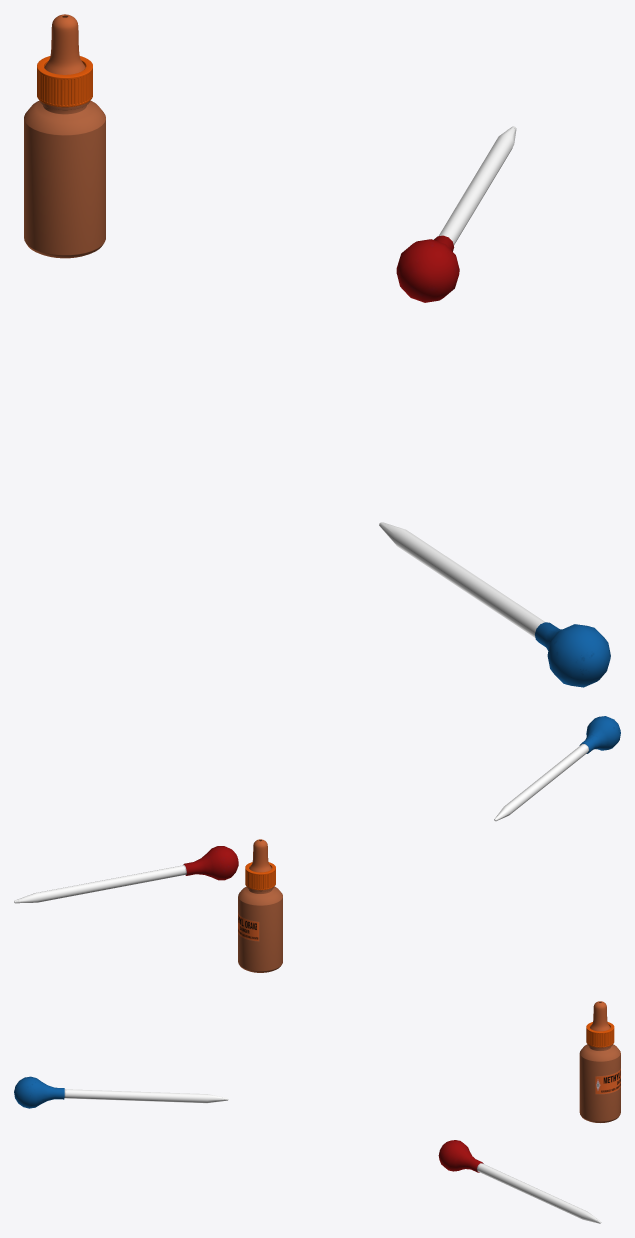
Rendered from pipette&indicator.fbx.
The picture shows the model from 3 angles, top to bottom: view 1: azimuth 30°, elevation 25°; view 2: azimuth 150°, elevation 25°; view 3: azimuth 270°, elevation 25°; orthographic projection. The views are drawn at different scales.
Visible parts, largest first — view 1: Bottle, Blue_plastic, Blue_glass, Red_plastic-1, Red_piette_1, BottleHat, cap top; view 2: Bottle, Red_piette_1, Red_plastic-1, Blue_glass, Blue_plastic, BottleHat, cap top, indicatorLabel; view 3: Bottle, Blue_glass, Red_piette_1, Blue_plastic, Red_plastic-1, BottleHat, indicatorLabel, cap top.
Part boxes in pixels (left/top/right/bottom): Bottle: left=24, top=100, right=105, bottom=258; Blue_plastic: left=535, top=622, right=610, bottom=687; Blue_glass: left=379, top=522, right=545, bottom=637; Red_plastic-1: left=396, top=235, right=459, bottom=302; Red_piette_1: left=438, top=126, right=516, bottom=245; BottleHat: left=37, top=56, right=92, bottom=107; cap top: left=44, top=14, right=85, bottom=74; Bottle: left=238, top=886, right=282, bottom=972; Red_piette_1: left=14, top=865, right=186, bottom=903; Red_plastic-1: left=183, top=846, right=238, bottom=880; Blue_glass: left=494, top=744, right=588, bottom=821; Blue_plastic: left=579, top=716, right=620, bottom=753; BottleHat: left=245, top=862, right=275, bottom=890; cap top: left=249, top=839, right=271, bottom=872; indicatorLabel: left=238, top=913, right=259, bottom=941; Bottle: left=579, top=1044, right=620, bottom=1122; Blue_glass: left=64, top=1089, right=228, bottom=1103; Red_piette_1: left=477, top=1163, right=601, bottom=1223; Blue_plastic: left=14, top=1076, right=64, bottom=1108; Red_plastic-1: left=438, top=1140, right=483, bottom=1172; BottleHat: left=586, top=1022, right=614, bottom=1047; indicatorLabel: left=595, top=1068, right=620, bottom=1094; cap top: left=590, top=1001, right=610, bottom=1031.
Bounding box in the file's own units: 26.27 × 11.15 × 51.69.
7 materials, 4 textured.
